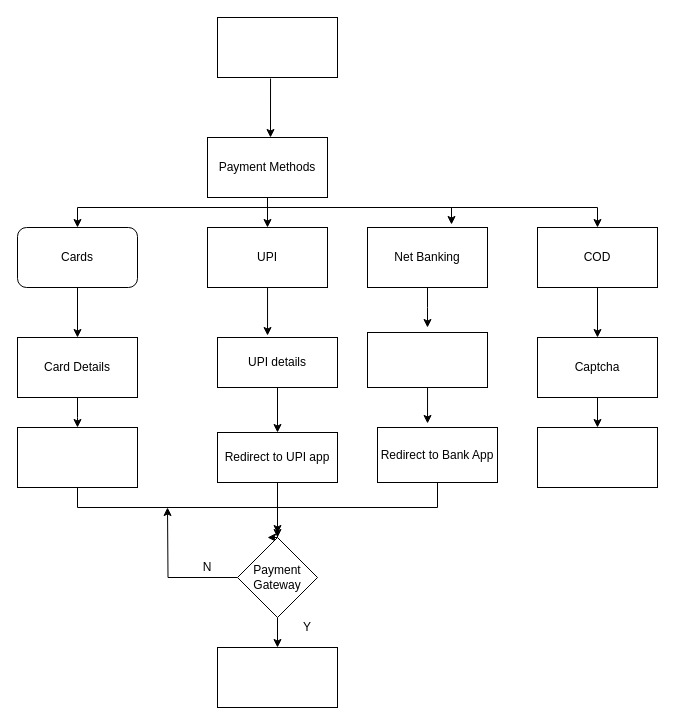
Image size: 675x725. Some labels were removed from this diagram. The shapes that lost their labels are listed below. From the top down, each one's box as (x1, y1, x2, y2) in pixels, then its label:
(216, 16, 338, 78): Payment Module
(366, 332, 488, 388): Bank Select
(16, 426, 138, 488): Save the details
(536, 426, 658, 488): Order Success
(216, 646, 338, 708): Payment Success
